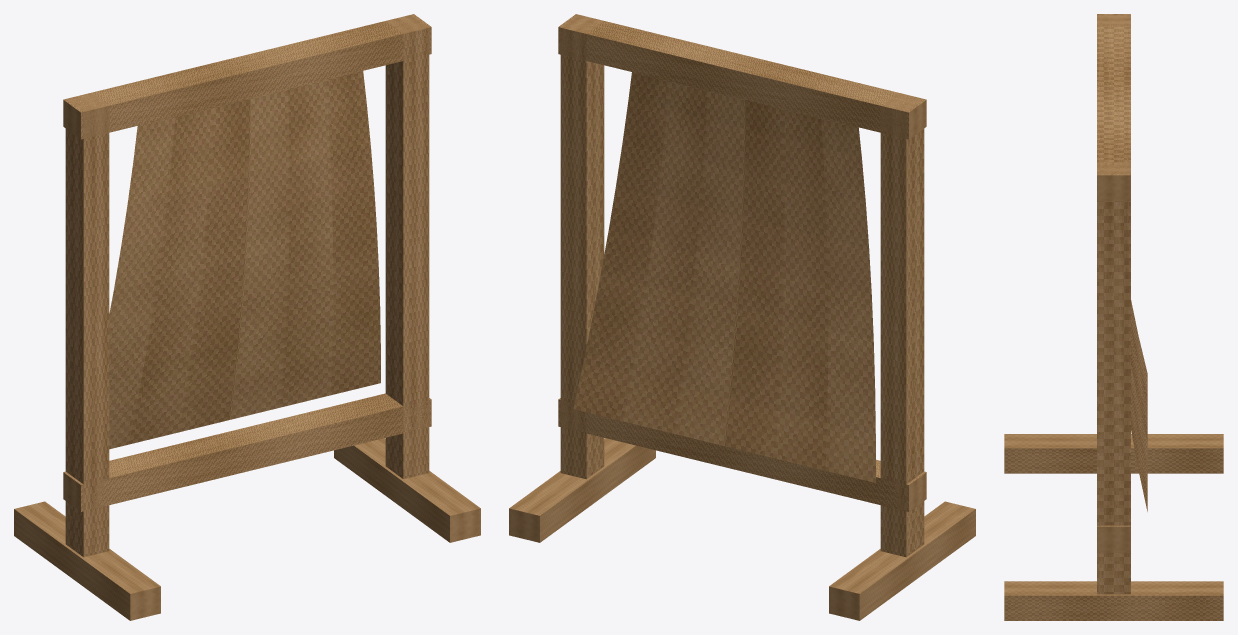
File: tear.glb
The picture shows the model from 3 angles, left to right: view 1: azimuth 30°, elevation 25°; view 2: azimuth 150°, elevation 25°; view 3: azimuth 270°, elevation 25°; orthographic projection. The views are drawn at different scales.
Visible parts, largest first — view 1: Cloth_Loom, LoomFrame; view 2: Cloth_Loom, LoomFrame; view 3: LoomFrame, Cloth_Loom.
Boxes of the visible parts, <box> form: Cloth_Loom: <box>109,71,380,449</box>; LoomFrame: <box>14,14,480,620</box>; Cloth_Loom: <box>573,72,875,482</box>; LoomFrame: <box>509,14,975,620</box>; LoomFrame: <box>1004,14,1223,620</box>; Cloth_Loom: <box>1131,300,1147,511</box>.
Bounding box in the file's own units: 1.36 × 1.75 × 0.78.
Materials: 2 (2 with a texture image).
